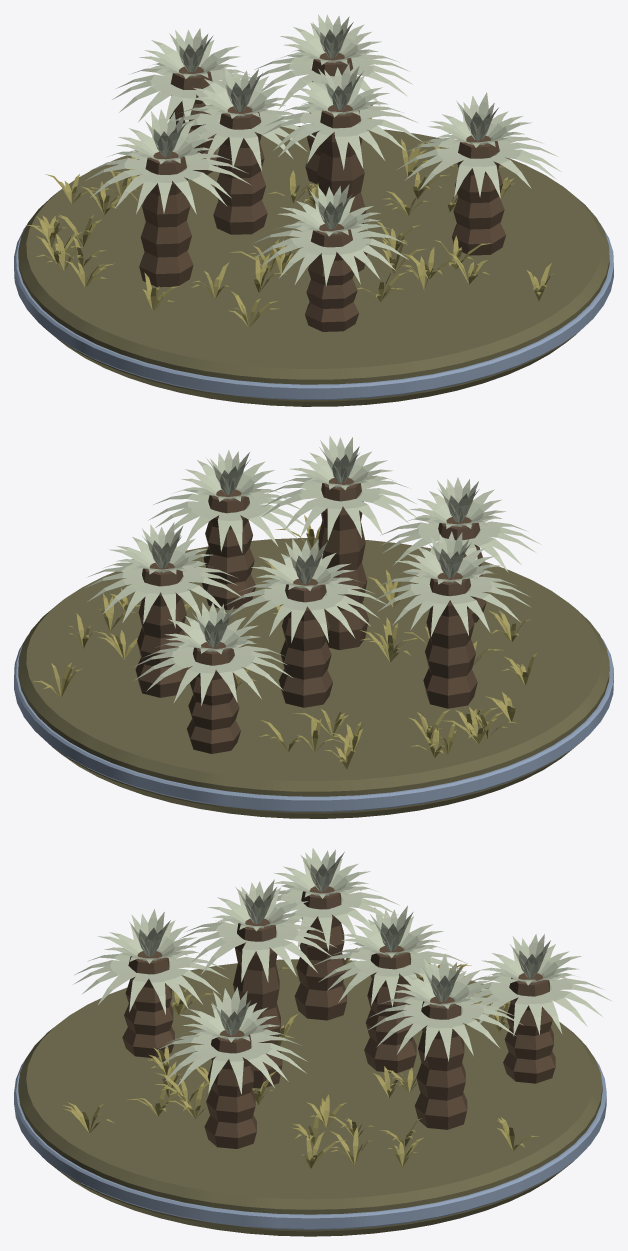
The model's file is cuenca_paramo.src.glb.
3 renders of one model, top to bottom at view 1: azimuth 30°, elevation 25°; view 2: azimuth 150°, elevation 25°; view 3: azimuth 270°, elevation 25°, orthographic.
Parts seen in each view (by area): view 1: geo_base, geo_detail; view 2: geo_base, geo_detail; view 3: geo_base, geo_detail.
Part boxes in pixels (x1,y1,x2,y2): geo_base: [14, 126, 613, 406]; geo_detail: [25, 14, 561, 331]; geo_base: [14, 538, 613, 818]; geo_detail: [33, 435, 541, 769]; geo_base: [14, 959, 606, 1236]; geo_detail: [63, 848, 611, 1168].
Size of the model in its own units: 0.1116 by 0.0483 by 0.1129.
